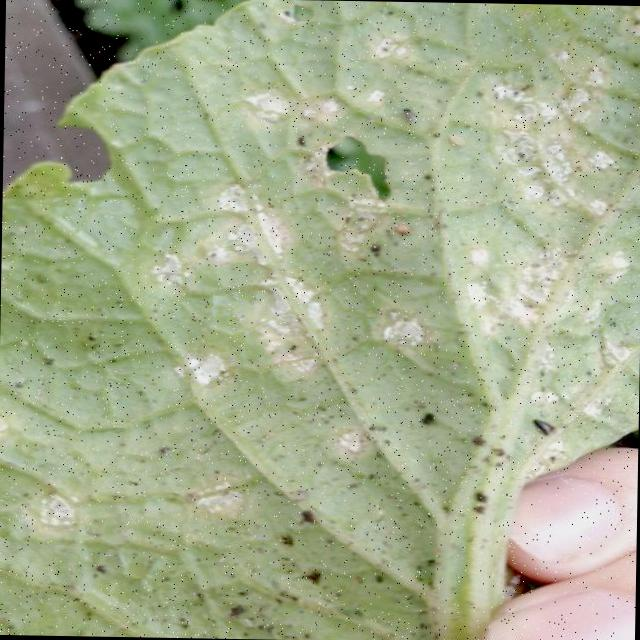Powdery_mildew_on_lettuce: (152, 56, 620, 449)
